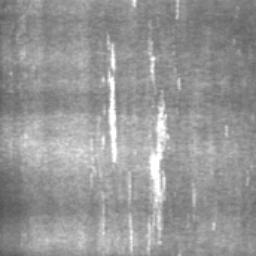White rust: (127, 77, 182, 252), (101, 33, 118, 164), (146, 36, 156, 82), (191, 182, 196, 208), (174, 0, 179, 20), (211, 221, 217, 231), (225, 124, 228, 139), (131, 0, 137, 7)
